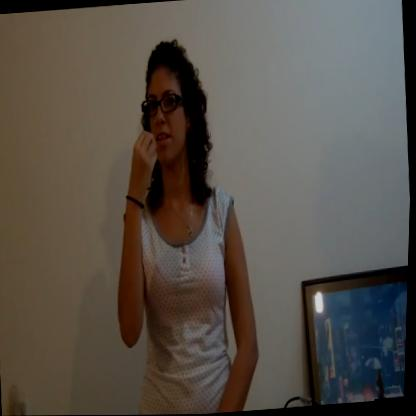Food: (104, 44, 222, 229)
